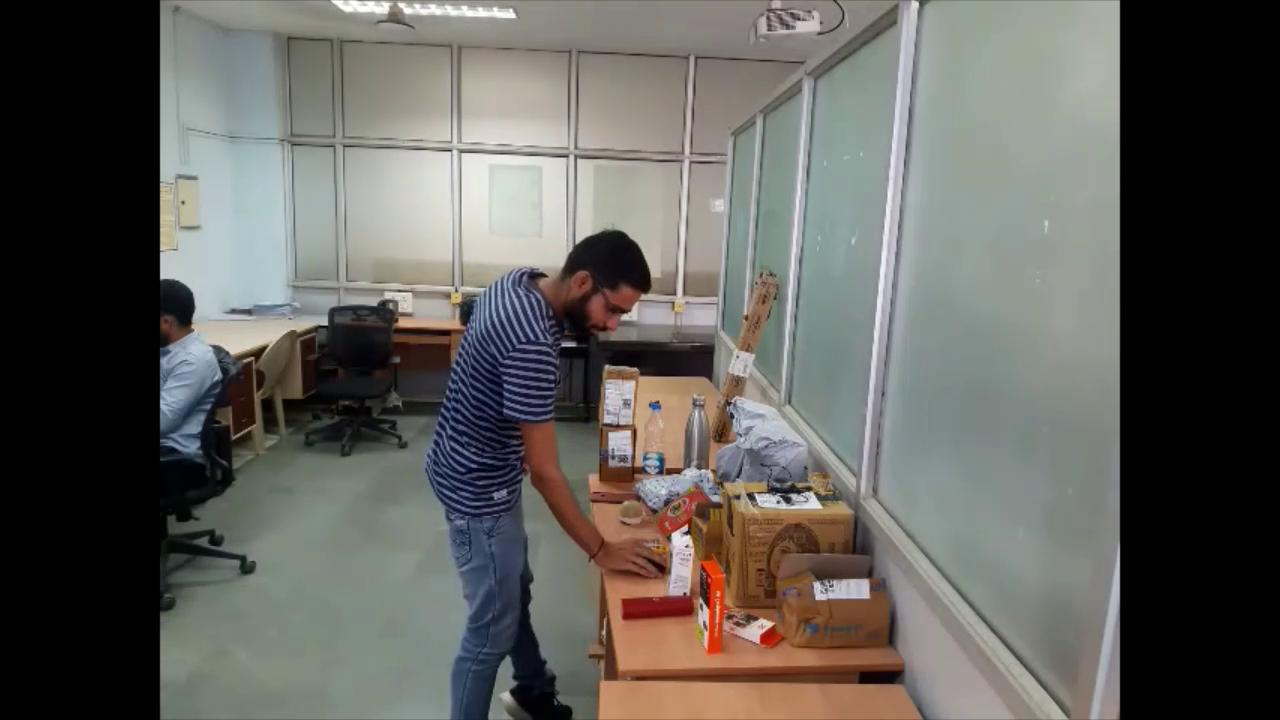Normal: (421, 223, 676, 720)
